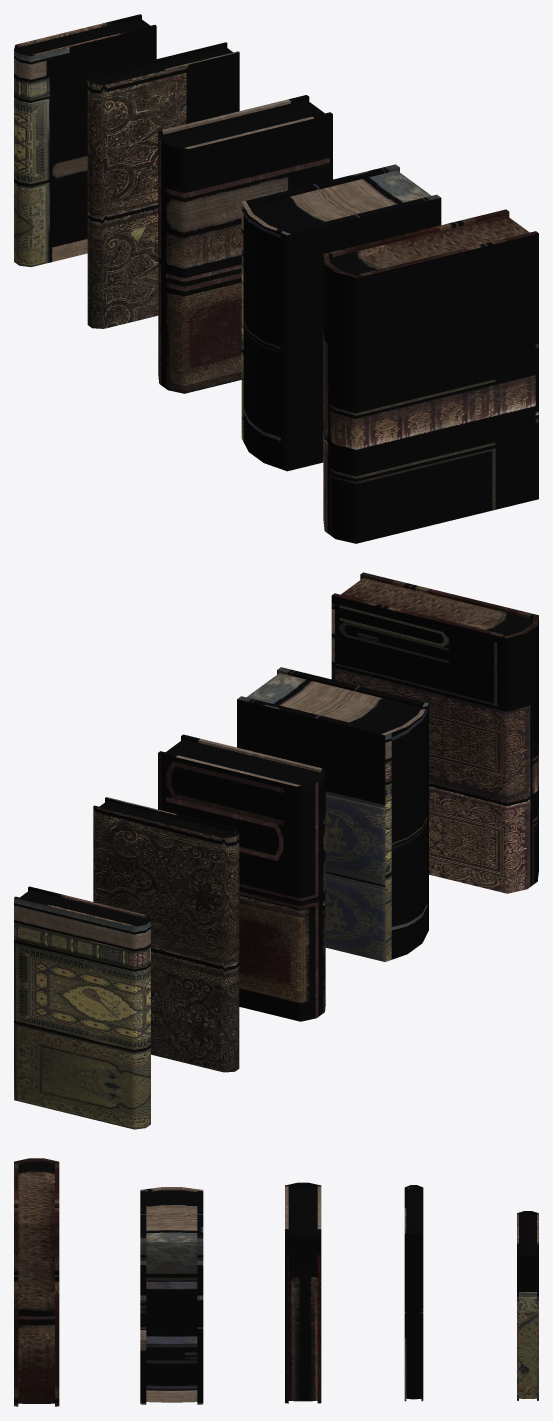
The model's file is livros-gastos.glb.
3 views of the same model, one above another, from view 1: azimuth 30°, elevation 25°; view 2: azimuth 150°, elevation 25°; view 3: azimuth 270°, elevation 25° (orthographic). The views are drawn at different scales.
Visible parts, largest first — view 1: Object006, Object007, Object002, Object005, Object003, Object004, Object001; view 2: Object006, Object007, Object005, Object002, Object004, Object003, Object001; view 3: Object003, Object007, Object001, Object005, Object006.
Part boxes in pixels (x1,y1,x2,y2): Object006: [14, 14, 535, 543]; Object007: [158, 114, 538, 499]; Object002: [87, 52, 239, 328]; Object005: [14, 18, 243, 441]; Object003: [87, 42, 440, 468]; Object004: [280, 198, 441, 471]; Object001: [158, 95, 332, 180]; Object006: [14, 596, 538, 926]; Object007: [160, 572, 538, 1021]; Object005: [14, 733, 391, 1129]; Object002: [93, 806, 239, 1072]; Object004: [237, 699, 428, 961]; Object003: [93, 667, 428, 959]; Object001: [158, 734, 325, 809]; Object003: [140, 1185, 423, 1404]; Object007: [14, 1158, 59, 1406]; Object001: [285, 1182, 321, 1403]; Object005: [519, 1213, 536, 1398]; Object006: [517, 1211, 538, 1400].
Bounding box in the file's own units: 0.0246 × 0.0326 × 0.0843.
7 materials, 7 textured.
